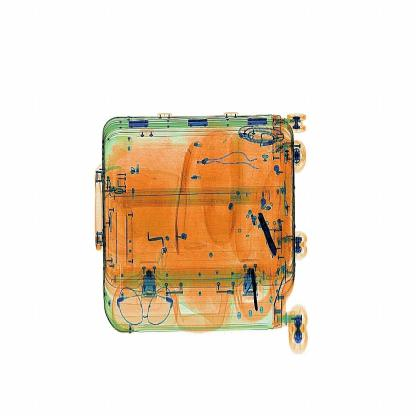knife: (254, 206, 279, 251)
